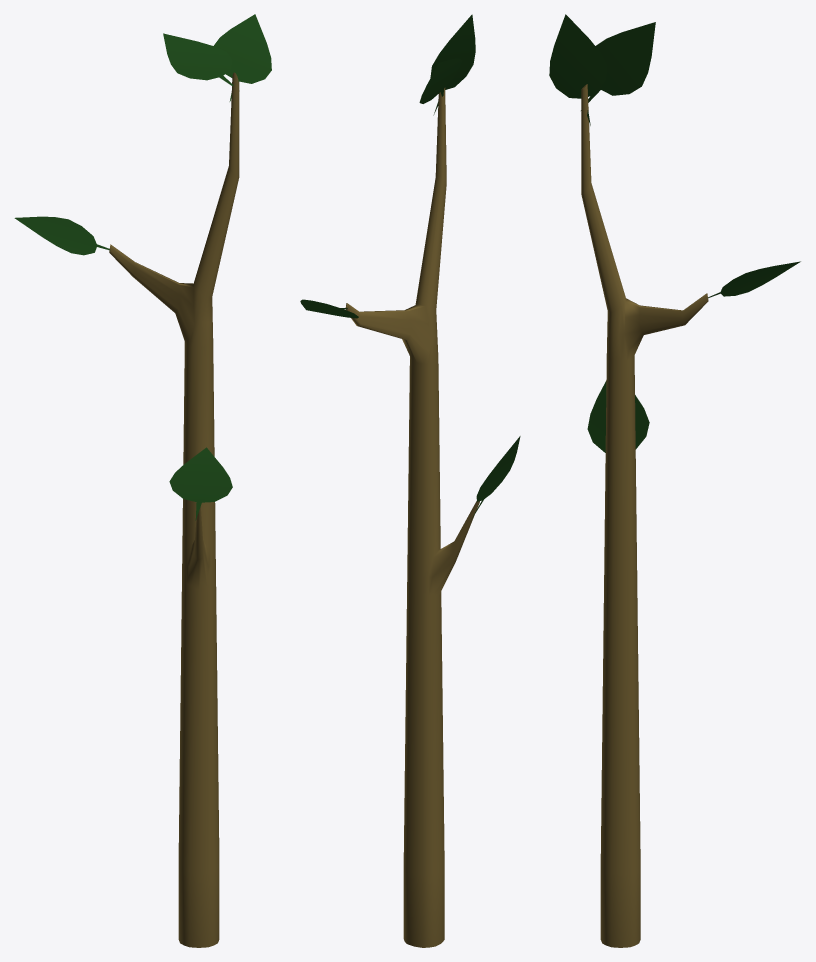
Rendered from apple_tree0.fbx.
The picture shows the model from 3 angles, left to right: view 1: azimuth 90°, elevation 25°; view 2: azimuth 150°, elevation 25°; view 3: azimuth 270°, elevation 25°; orthographic projection. The views are drawn at different scales.
Parts seen in each view (by area): view 1: pCube2, pasted__pasted__pPlane3; view 2: pCube2, pasted__pasted__pPlane3; view 3: pCube2, pasted__pasted__pPlane3.
Part boxes in pixels (bbox=[...]): pCube2: bbox=[109, 72, 239, 947]; pasted__pasted__pPlane3: bbox=[14, 14, 271, 520]; pCube2: bbox=[345, 87, 479, 947]; pasted__pasted__pPlane3: bbox=[300, 14, 520, 521]; pCube2: bbox=[581, 84, 708, 947]; pasted__pasted__pPlane3: bbox=[549, 14, 800, 452].
Size of the model in its own units: 0.211 by 1.22 by 0.3037.
